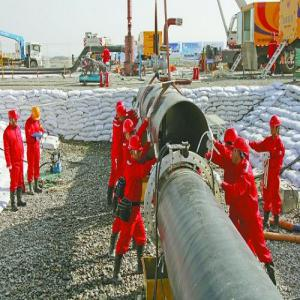red: (232, 137, 249, 167), (130, 137, 145, 161), (124, 120, 137, 141), (116, 105, 128, 125), (270, 116, 281, 137), (9, 110, 20, 128)
yellow: (32, 106, 42, 124)
